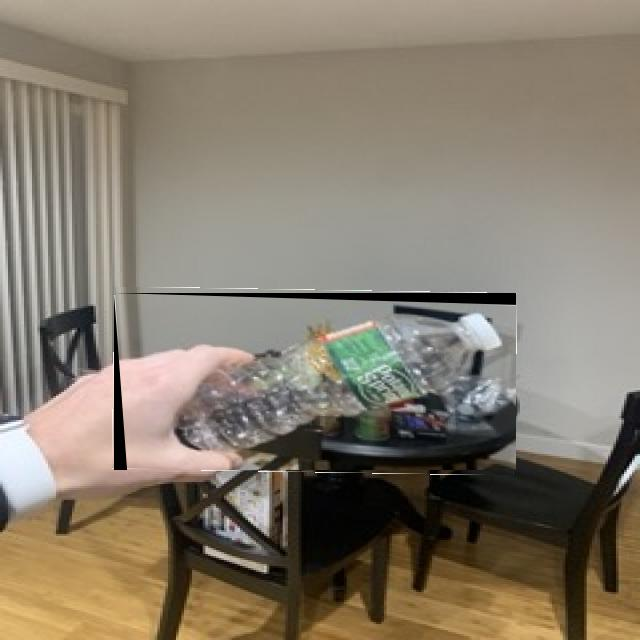water_bottle: (119, 302, 516, 470)
